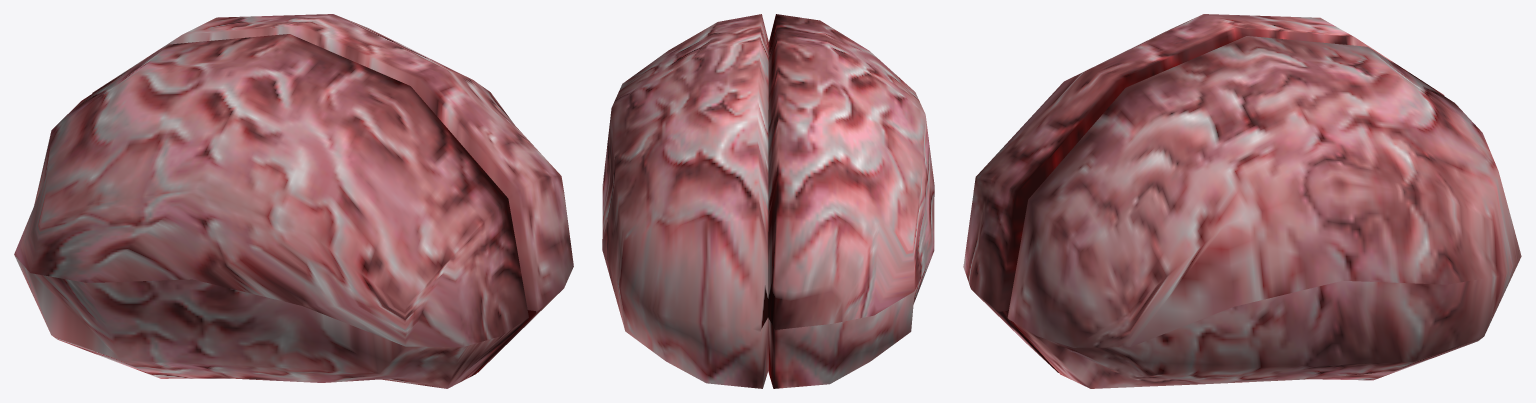
Rendered from hj2-onin-mesh.glb.
3 views of the same model, side by side, from view 1: azimuth 30°, elevation 25°; view 2: azimuth 150°, elevation 25°; view 3: azimuth 270°, elevation 25° (orthographic). The views are drawn at different scales.
Parts seen in each view (by area): view 1: hj2-onin-props; view 2: hj2-onin-props; view 3: hj2-onin-props.
Part boxes in pixels (box(x1,y1,x2,y2)): hj2-onin-props: box(14, 14, 573, 388); hj2-onin-props: box(602, 14, 934, 388); hj2-onin-props: box(963, 14, 1521, 388).
Size of the model in its own units: 1.74 by 1.34 by 1.93.
Materials: 1 (1 with a texture image).
